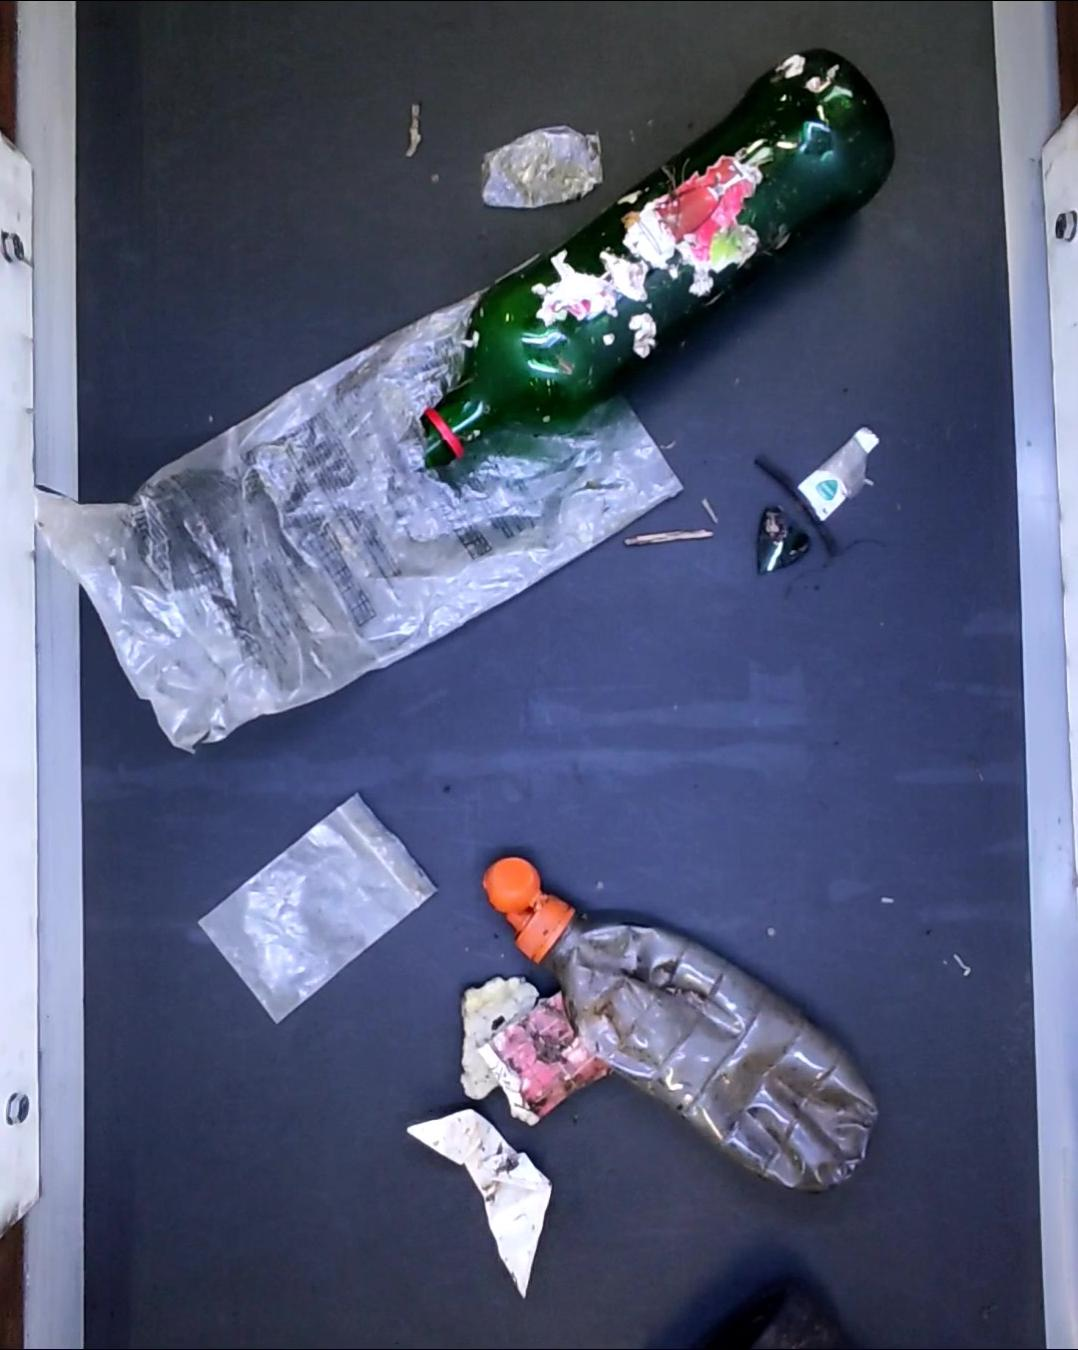Drankflessen - 1-2 liter: (483, 863, 883, 1193)
Plastic folies of stukken daarvan 2.5- 50 cm: (32, 283, 684, 757), (476, 122, 604, 211), (796, 429, 878, 515)
